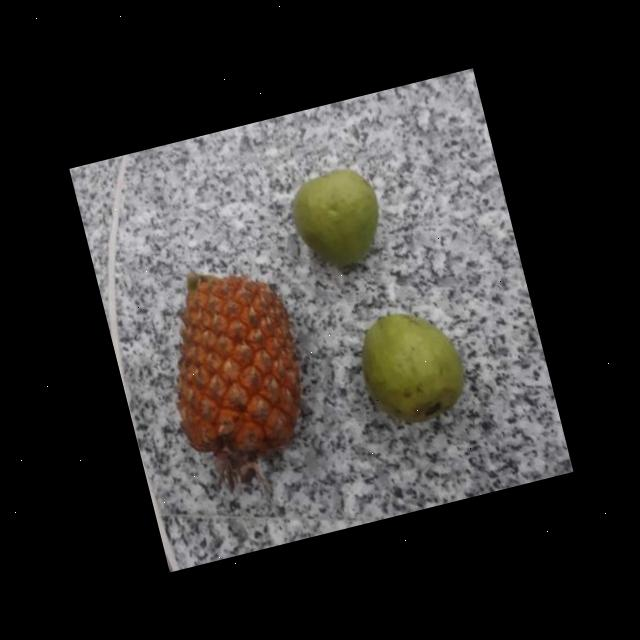guava: (352, 302, 469, 432), (285, 164, 390, 280)
pineapple: (142, 254, 322, 470)
